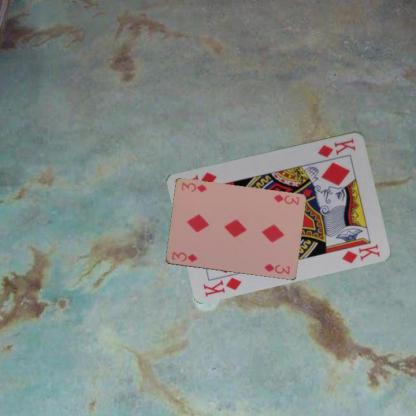3d: (169, 249, 199, 263), (271, 192, 300, 206)
Kd: (316, 135, 357, 159), (201, 275, 243, 298)
